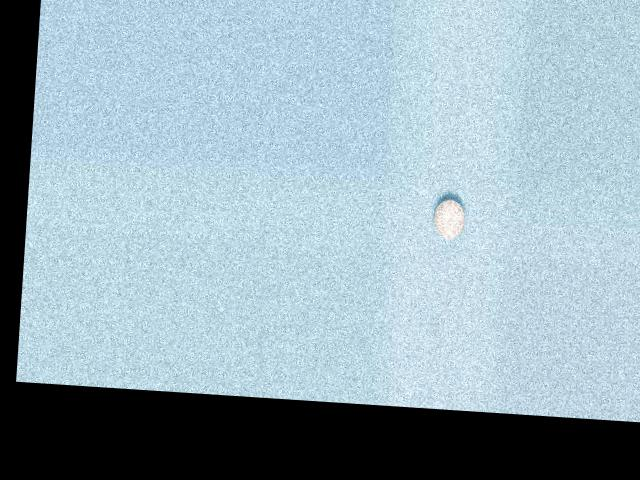egg: (432, 198, 465, 240)
